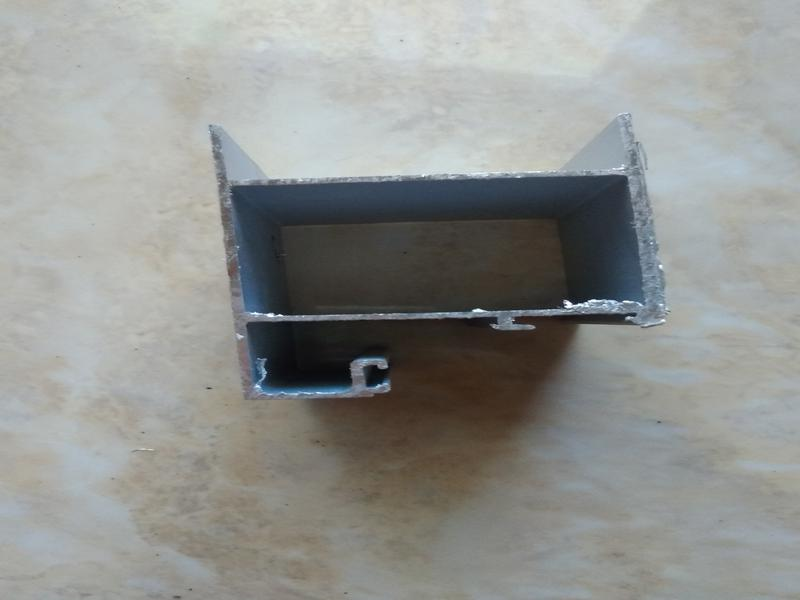Aluminium_2: (173, 75, 708, 430)
